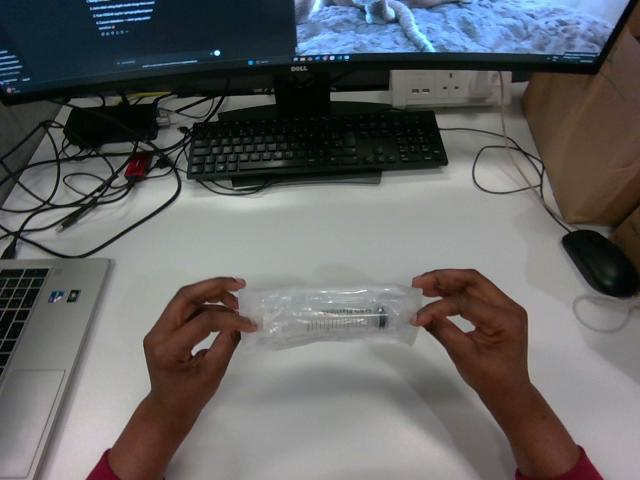syringe: (238, 284, 421, 350)
